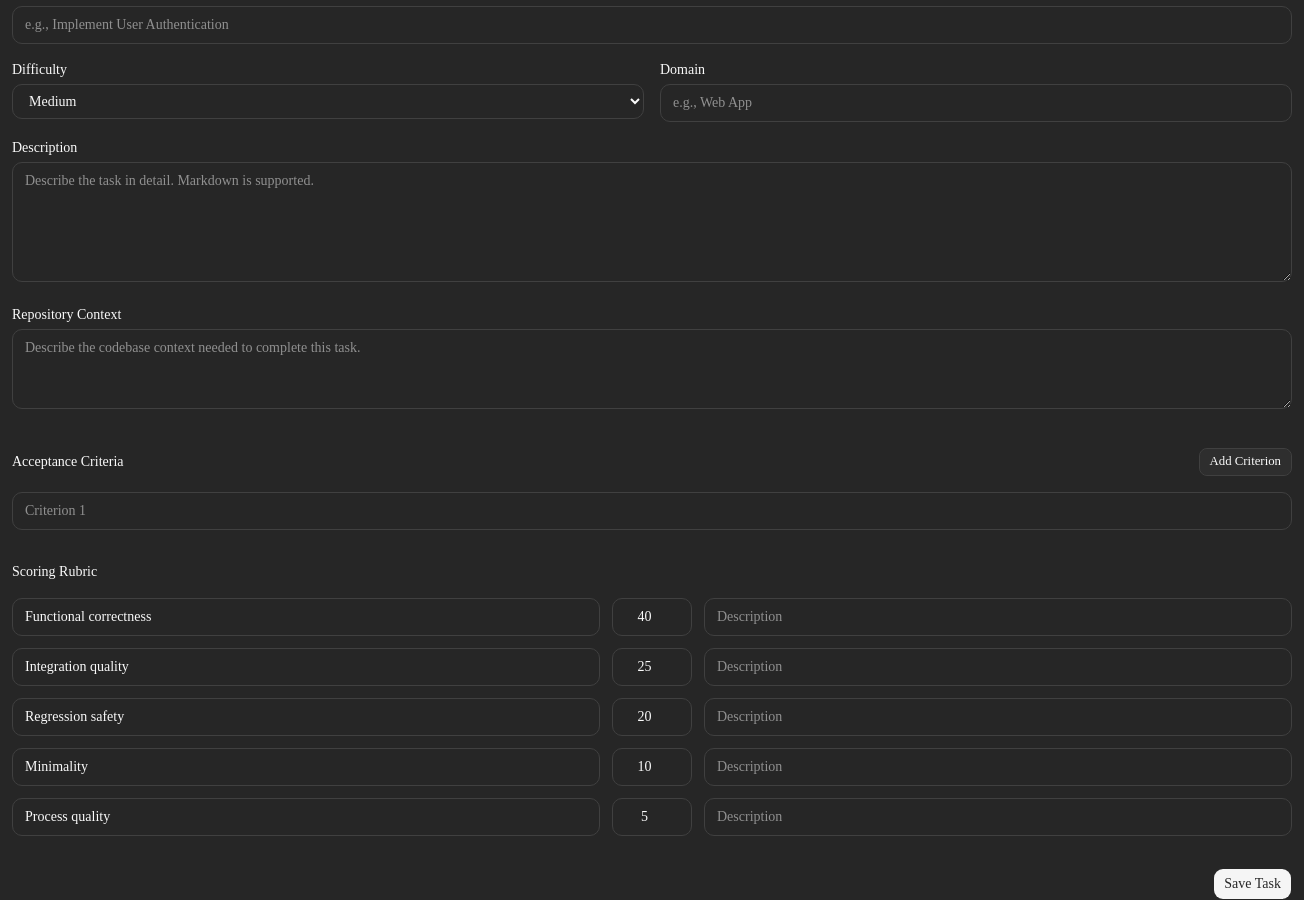
TaskEditor › shows validation errors for required fields
(page scrolled)
Click the button "Save Task" at [1253, 884], box [1213,868,1292,899]
(page scrolled)
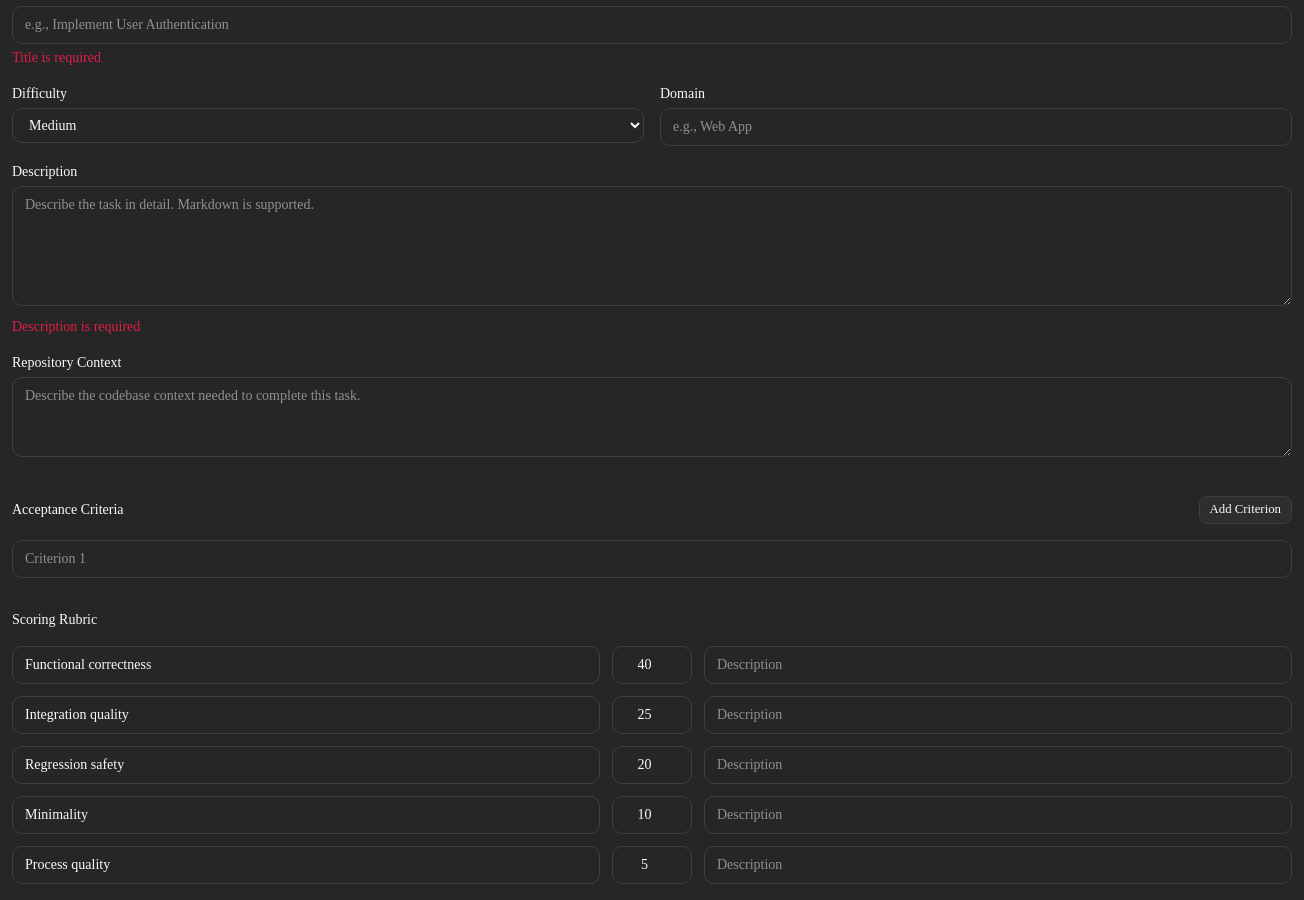
Expected: the text "Title is required" is shown, [12,50,101,65]
